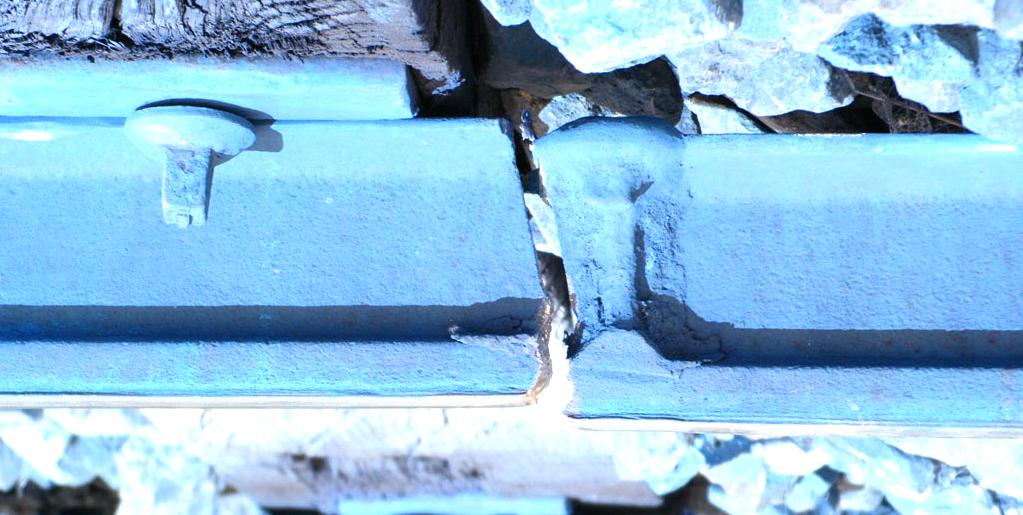error2: (467, 118, 620, 436)
